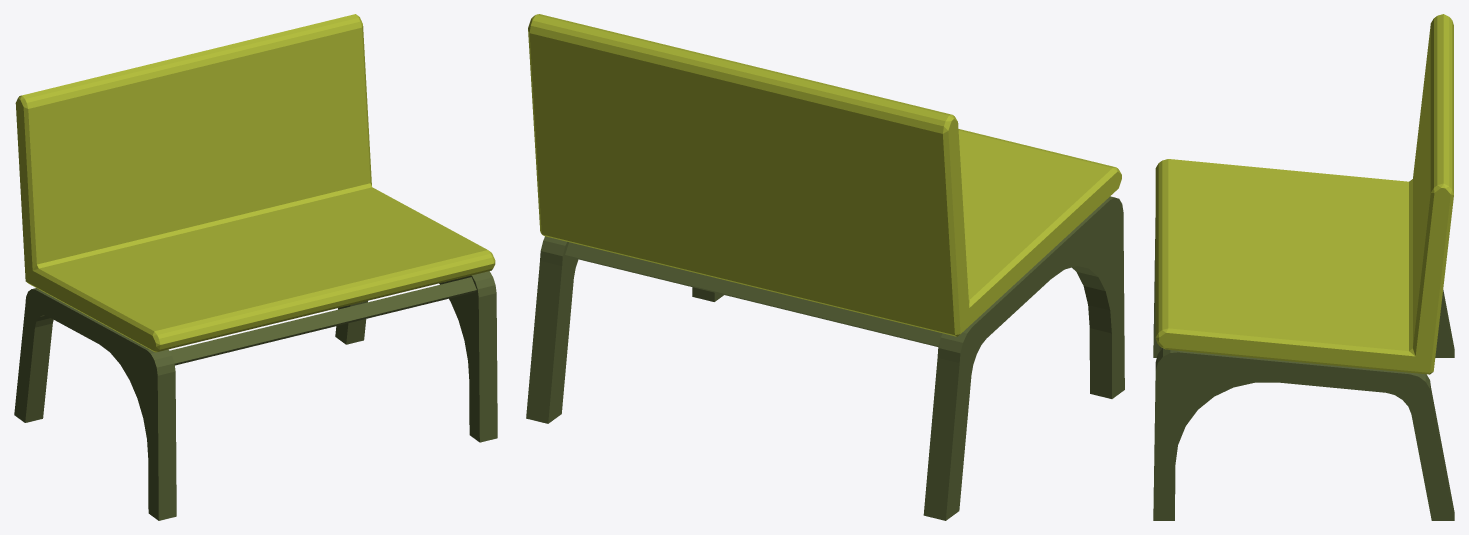
The model's file is Prop_Chair_07.fbx.
The picture shows the model from 3 angles, left to right: view 1: azimuth 30°, elevation 25°; view 2: azimuth 150°, elevation 25°; view 3: azimuth 270°, elevation 25°; orthographic projection. The views are drawn at different scales.
Visible parts, largest first — view 1: Prop_Chair_07; view 2: Prop_Chair_07; view 3: Prop_Chair_07.
Boxes of the visible parts, left/top/right/bottom form: Prop_Chair_07: left=14, top=14, right=497, bottom=520; Prop_Chair_07: left=526, top=14, right=1124, bottom=520; Prop_Chair_07: left=1153, top=14, right=1454, bottom=520.
Size of the model in its own units: 106 by 96.04 by 77.96.
